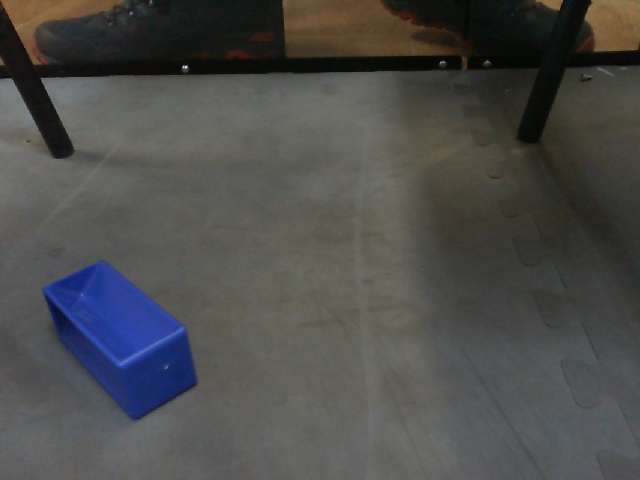BlueSample: (38, 255, 201, 425)
